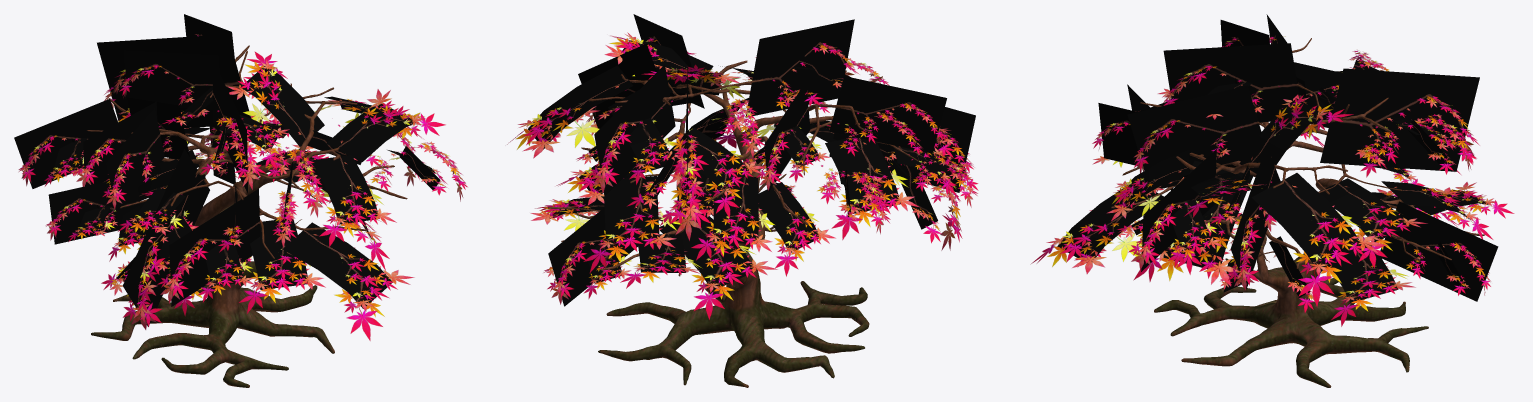
File: tree_jmaple.glb
3 views of the same model, side by side, from view 1: azimuth 30°, elevation 25°; view 2: azimuth 150°, elevation 25°; view 3: azimuth 270°, elevation 25° (orthographic). The views are drawn at different scales.
Visible parts, largest first — view 1: body; view 2: body; view 3: body.
Boxes of the visible parts, x1,y1,x2,y2 form: body: [14, 14, 467, 387]; body: [507, 14, 978, 387]; body: [1030, 14, 1514, 387].
Size of the model in its own units: 8.6 by 5.5 by 8.6.
3 materials, 3 textured.
